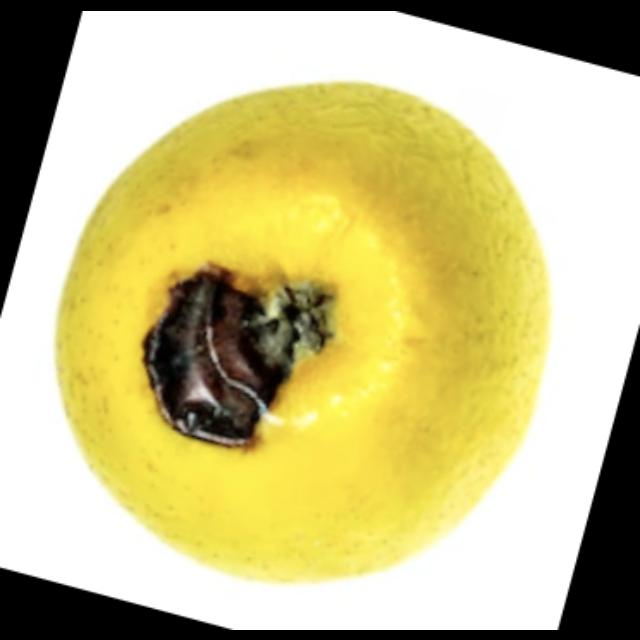Apel Tidak Segar: (44, 38, 586, 614)
